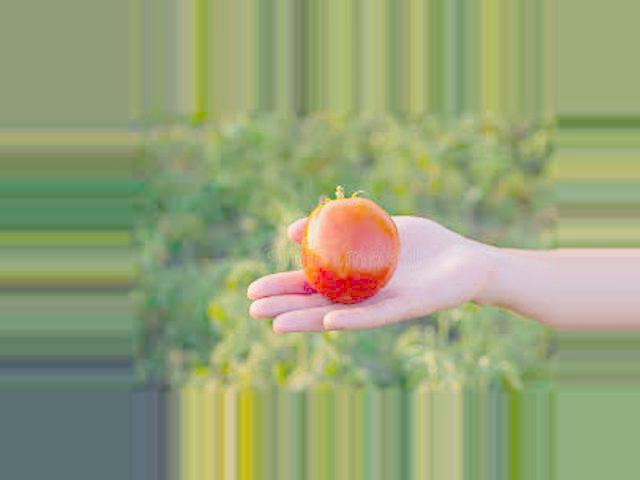tomato: (302, 198, 398, 306)
